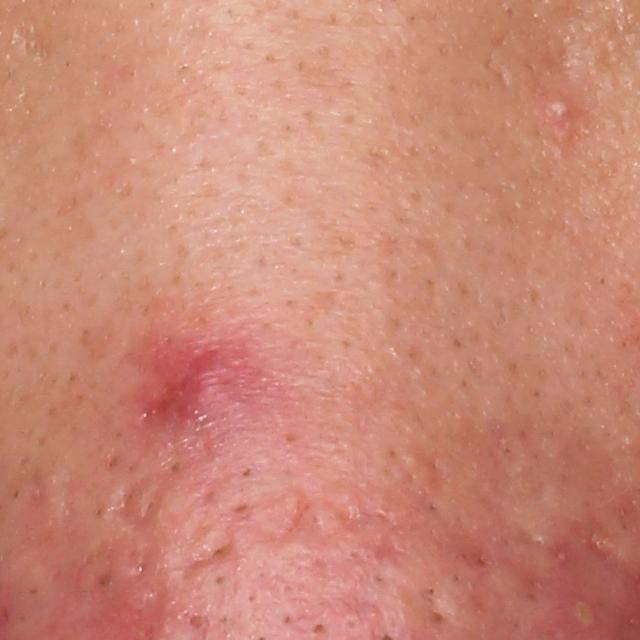atrophic_scar: (104, 472, 178, 551), (182, 537, 241, 578)
pustule: (563, 592, 611, 639), (544, 90, 572, 118)
